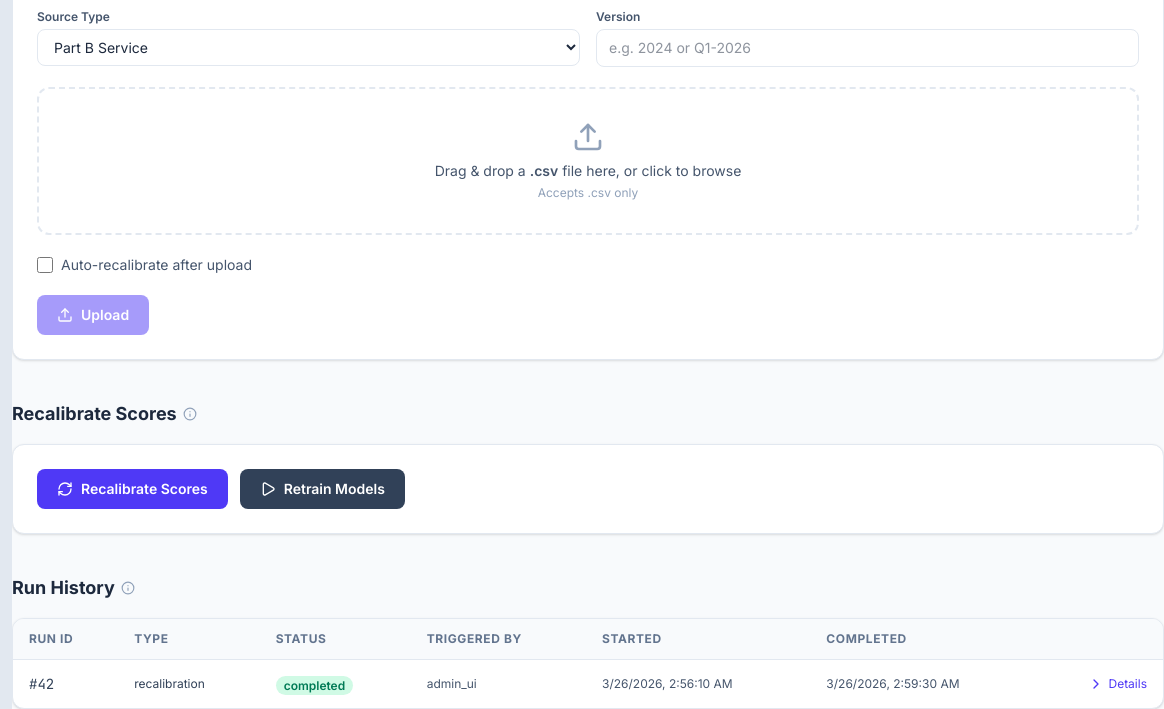
DataManagement › shows failed state with error message and retry button
(page scrolled)
Click the button "Recalibrate Scores": (132, 489) [37,469,228,509]
(page scrolled)
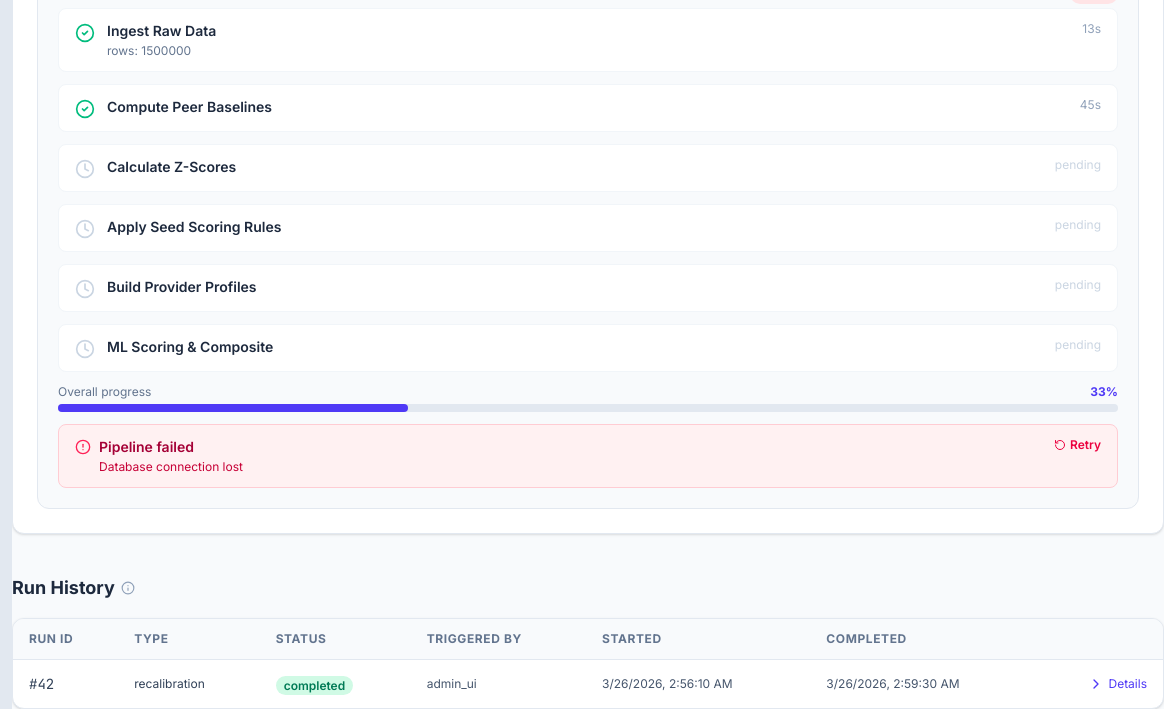
Check: the text "Pipeline failed" is shown, box [99,438,194,455]
Check: the text "Database connection lost" is shown, box [99,459,243,474]
Check: the button "Retry" is shown, box [1054,437,1101,453]
